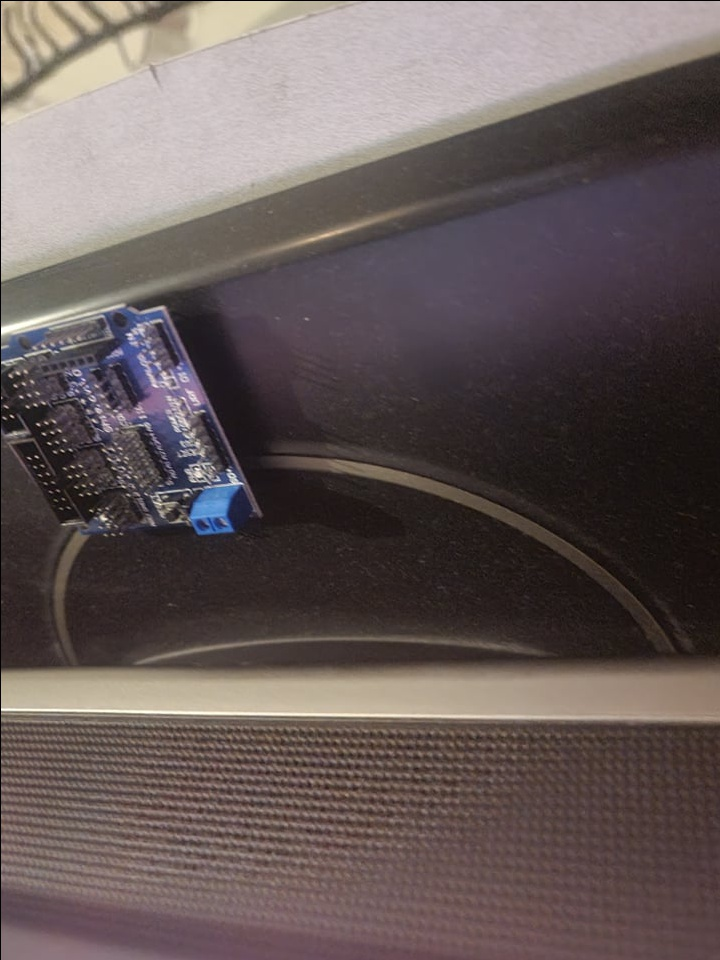5V EXPANSION: (0, 300, 262, 534)
